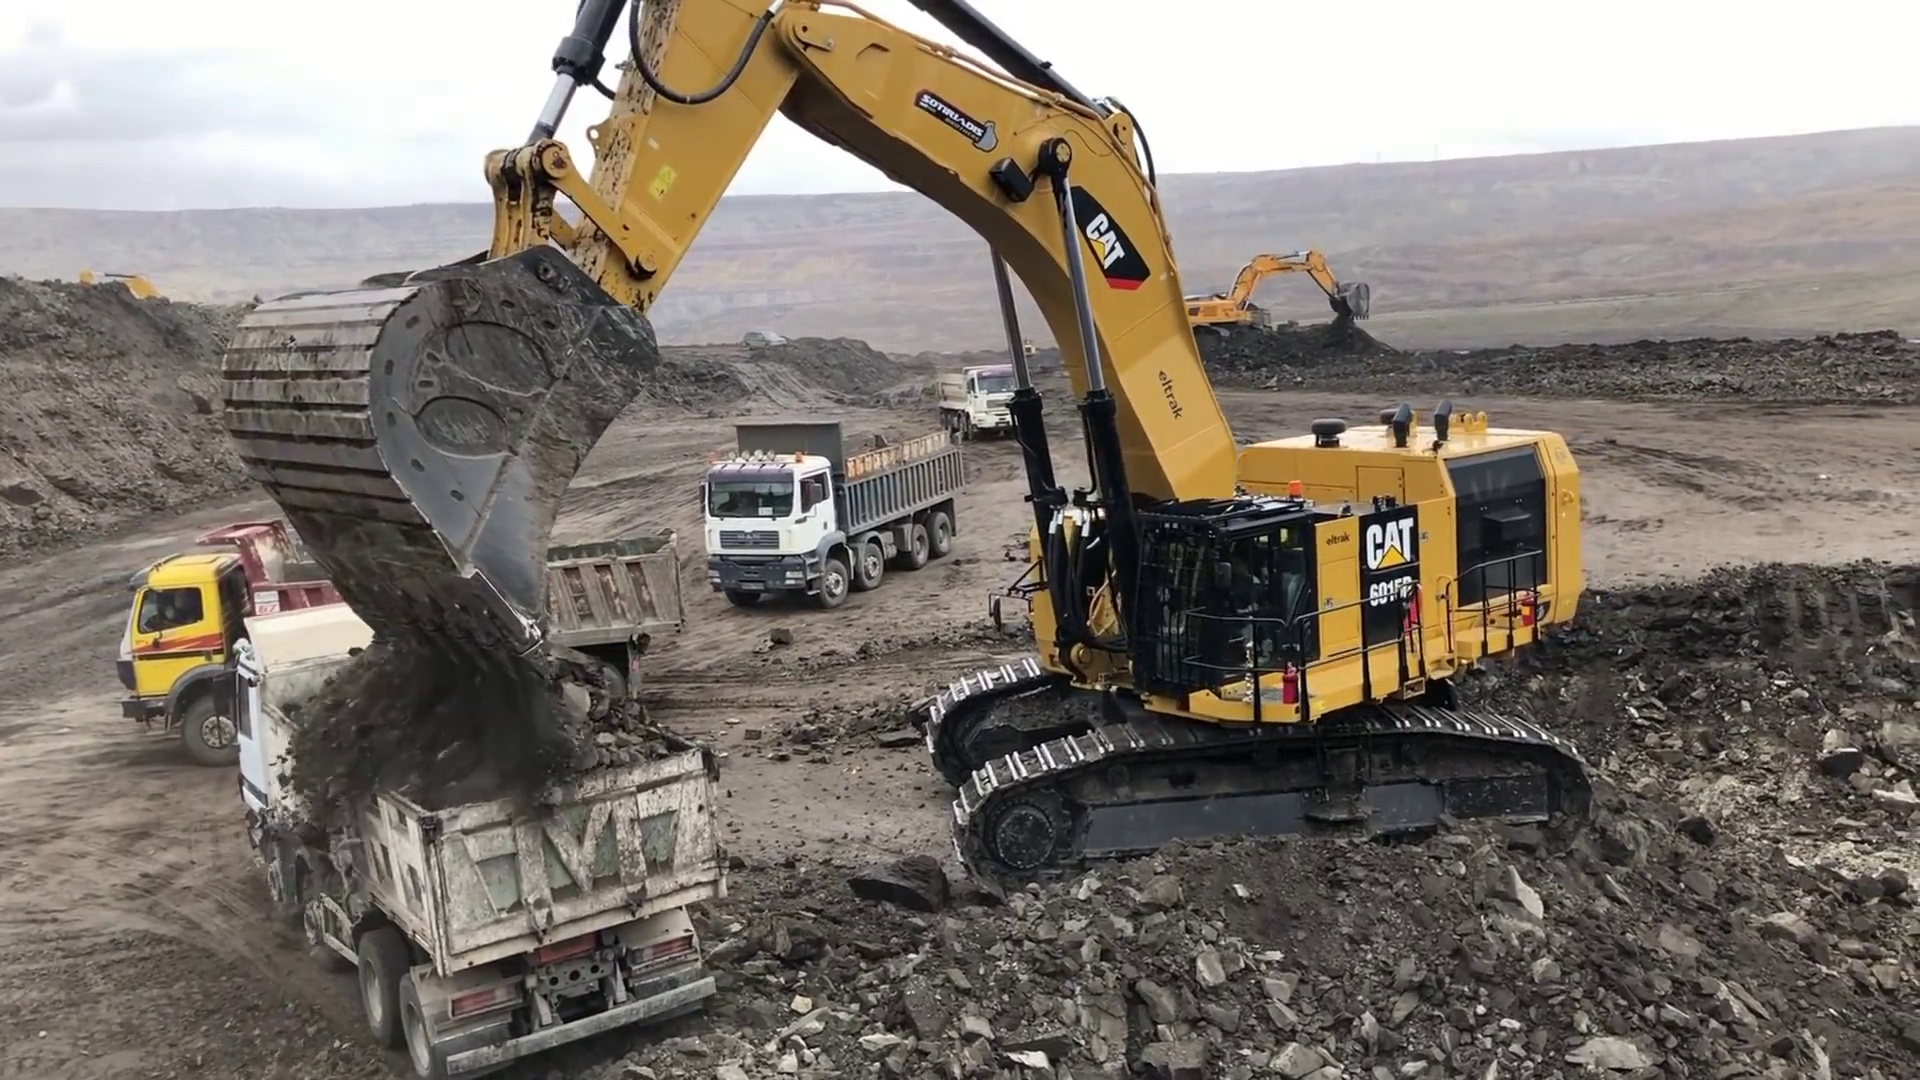excavator: (220, 25, 1611, 891), (1182, 239, 1383, 345), (65, 256, 167, 361)
truck: (228, 671, 742, 1077), (120, 509, 694, 760), (702, 419, 967, 612), (938, 359, 1015, 444)
